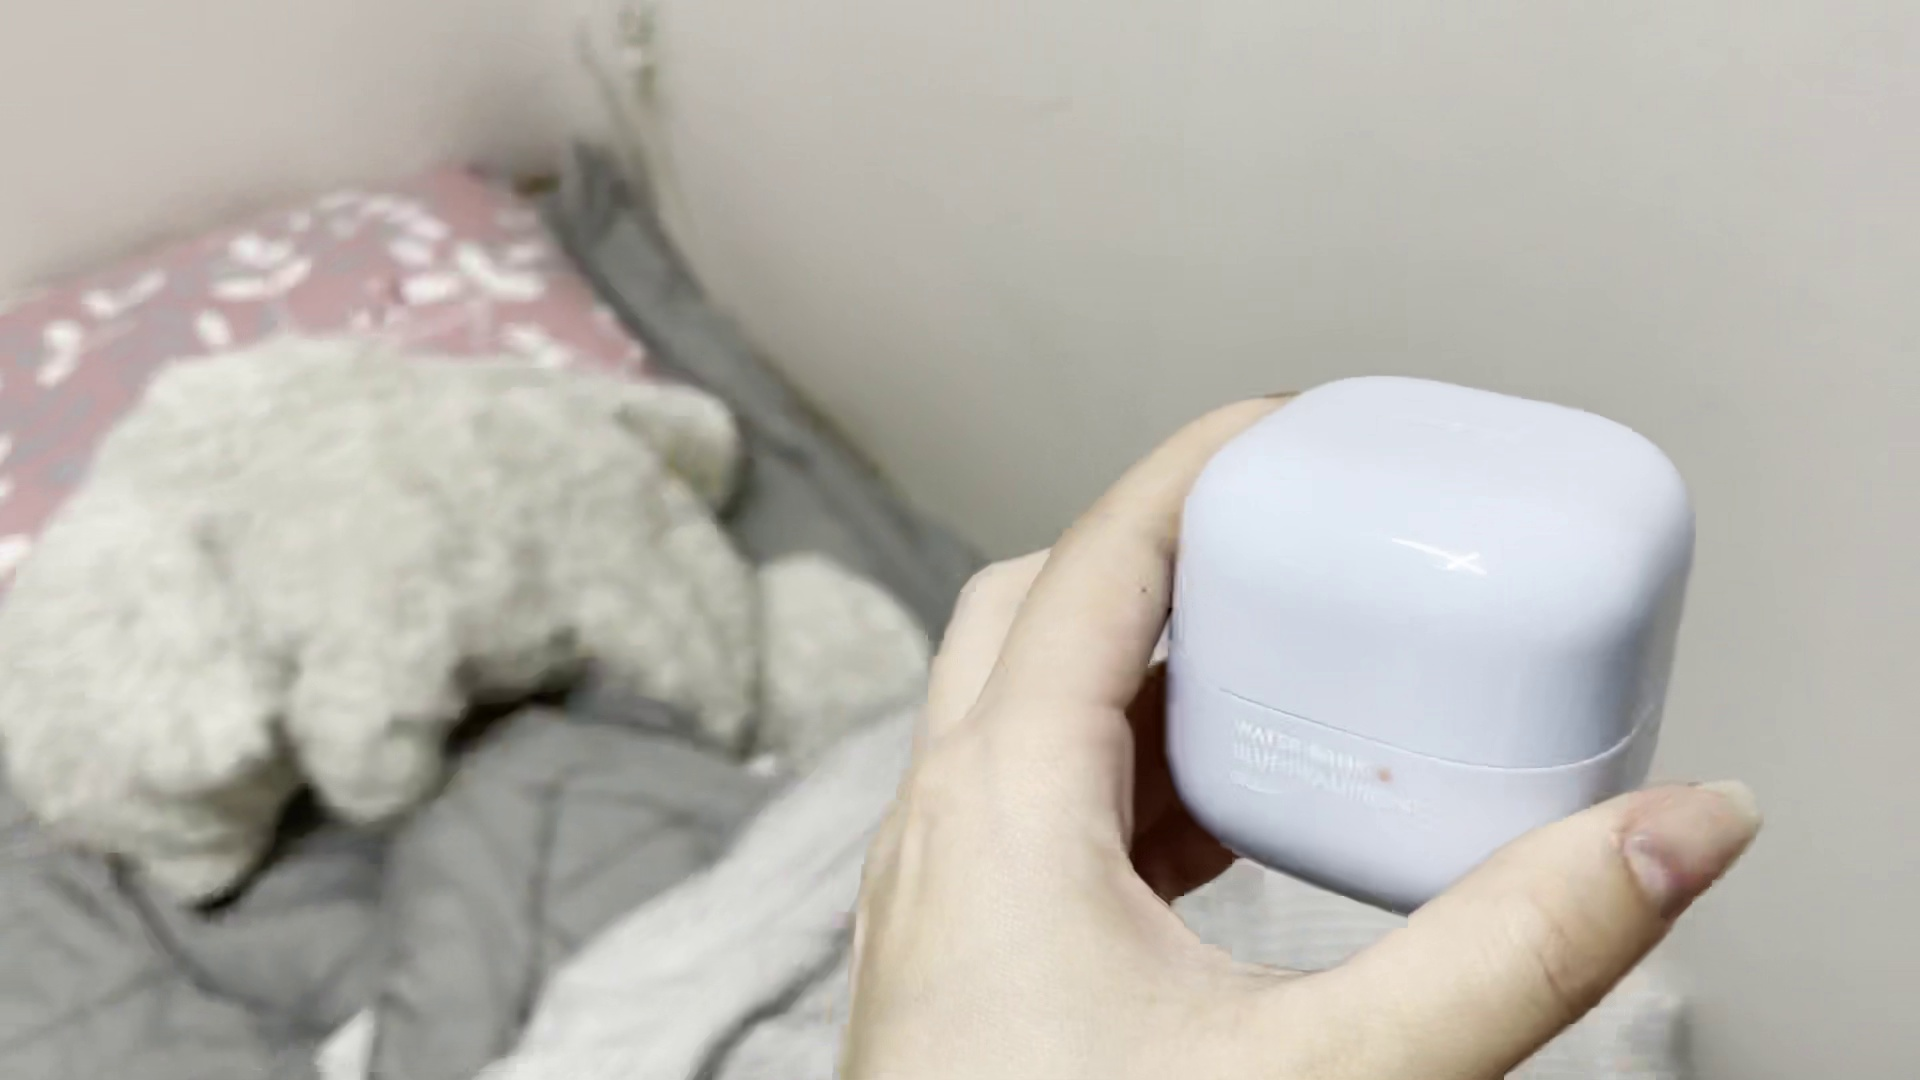cream: (1163, 368, 1697, 923)
